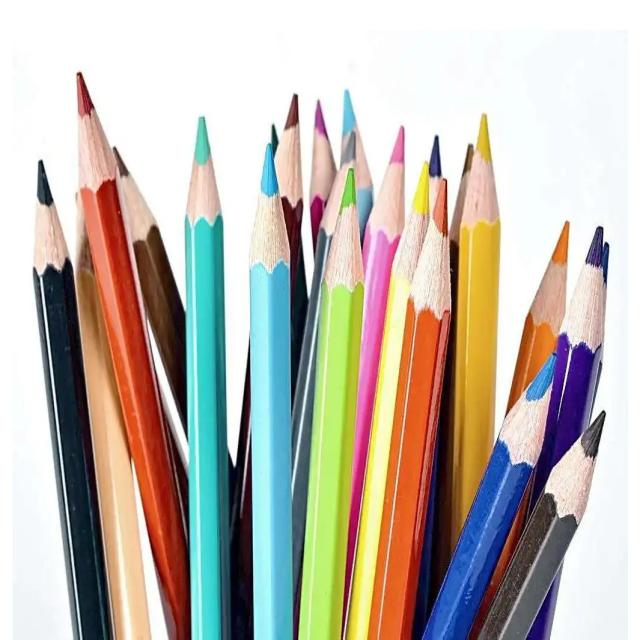pencil: (74, 69, 191, 640), (342, 157, 432, 639), (30, 155, 114, 640), (420, 349, 559, 640), (366, 176, 452, 640), (343, 123, 408, 636), (298, 165, 366, 640), (475, 405, 610, 640), (294, 129, 358, 595), (447, 103, 501, 566), (184, 112, 229, 639), (248, 142, 295, 640), (109, 140, 186, 439), (536, 224, 606, 487), (504, 216, 573, 411), (274, 86, 307, 306), (340, 84, 375, 235), (307, 96, 337, 263)
